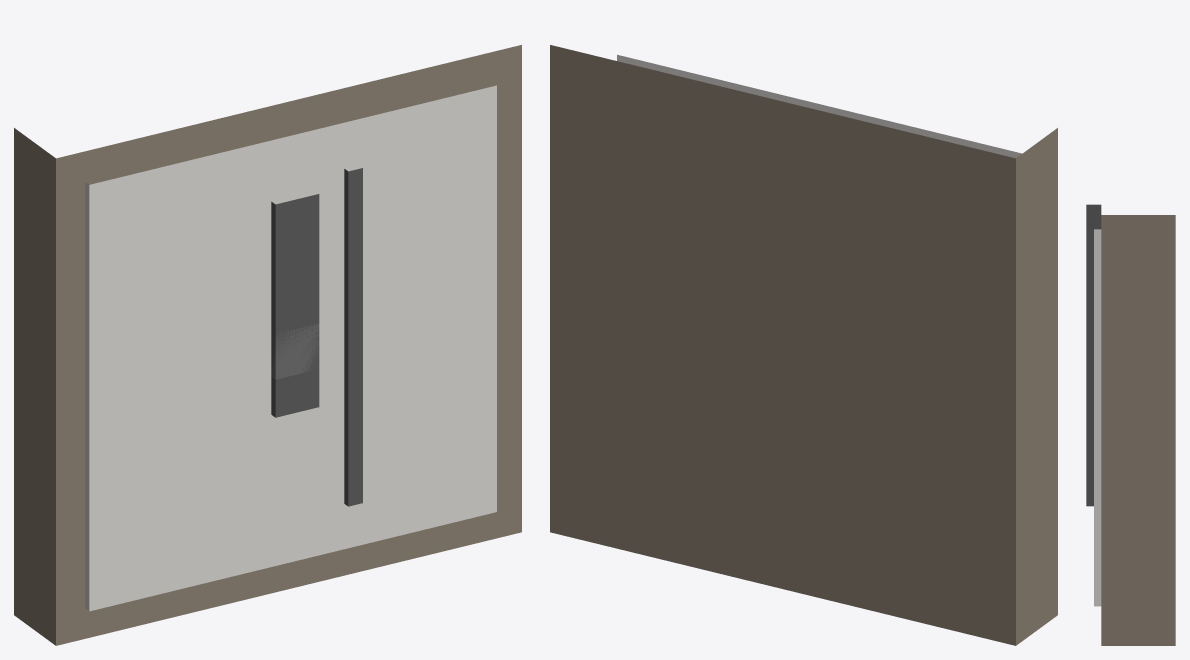
File: clock.glb
The picture shows the model from 3 angles, left to right: view 1: azimuth 30°, elevation 25°; view 2: azimuth 150°, elevation 25°; view 3: azimuth 270°, elevation 25°; orthographic projection. The views are drawn at different scales.
Size of the model in its own units: 0.32 by 0.32 by 0.06.
